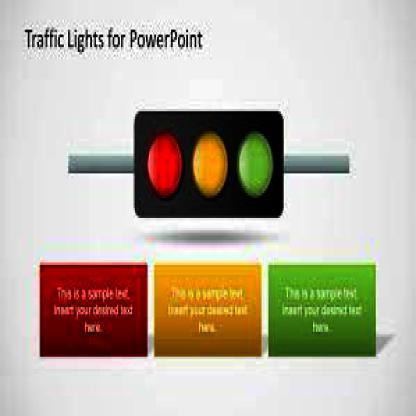traffic-light: (135, 114, 282, 218)
